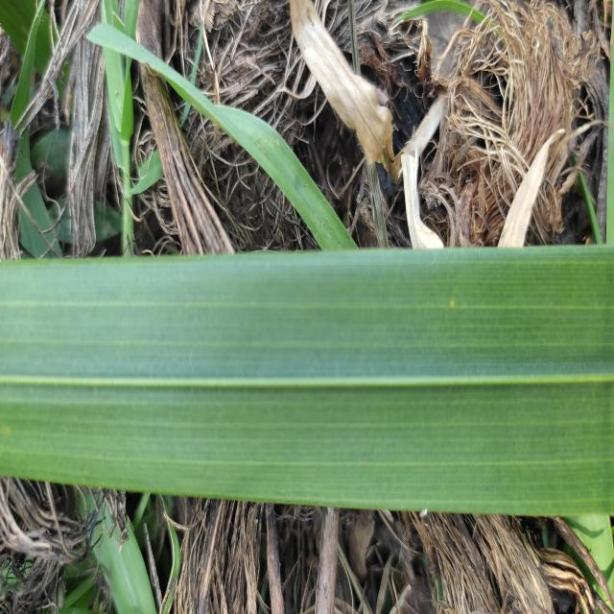Healthy: (0, 243, 614, 520)
